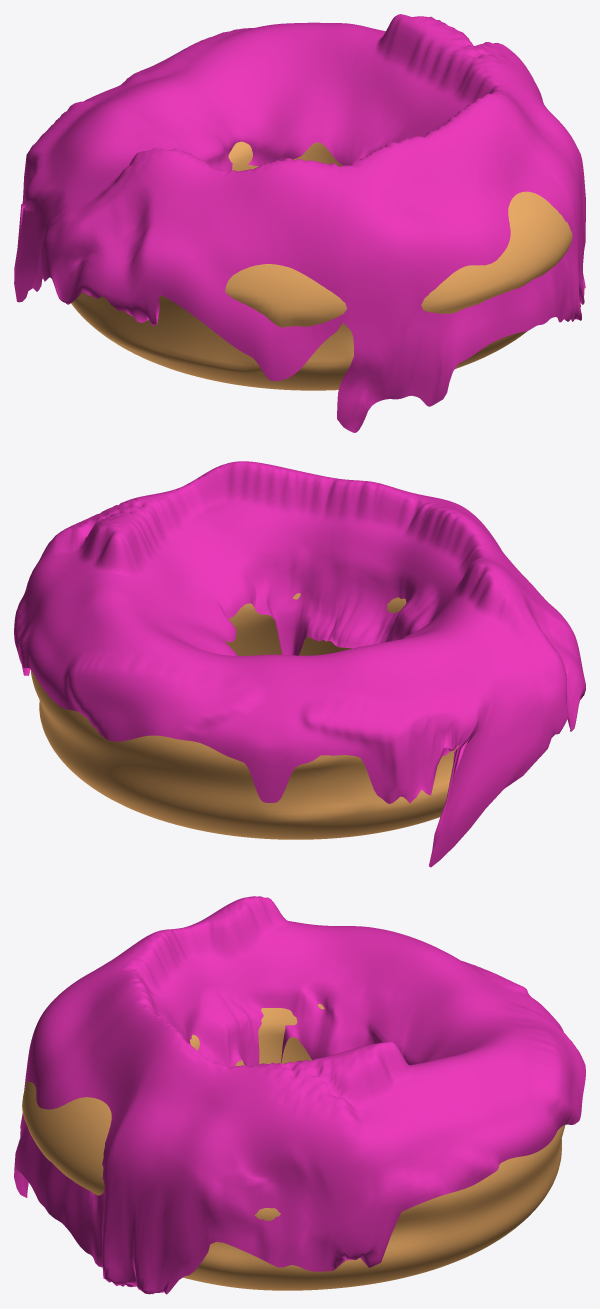
The model's file is Donut.glb.
3 views of the same model, one above another, from view 1: azimuth 30°, elevation 25°; view 2: azimuth 150°, elevation 25°; view 3: azimuth 270°, elevation 25° (orthographic). The views are drawn at different scales.
Visible parts, largest first — view 1: Icing, Donut; view 2: Icing, Donut; view 3: Icing, Donut.
Boxes of the visible parts, x1,y1,x2,y2 form: Icing: [14, 14, 585, 432]; Donut: [71, 141, 572, 390]; Icing: [14, 461, 585, 867]; Donut: [30, 593, 458, 839]; Icing: [14, 896, 585, 1294]; Donut: [22, 1004, 565, 1290].
Size of what is drawn, in the model's own units: 0.1608 by 0.0729 by 0.1538.
